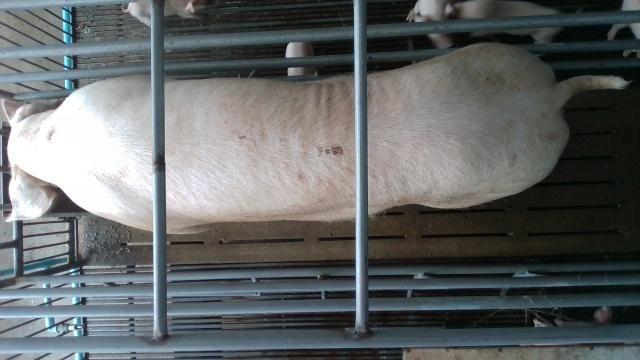piglet: (453, 2, 566, 44), (123, 0, 219, 29), (408, 0, 454, 47)
sow-stand-feed: (2, 44, 631, 233)
